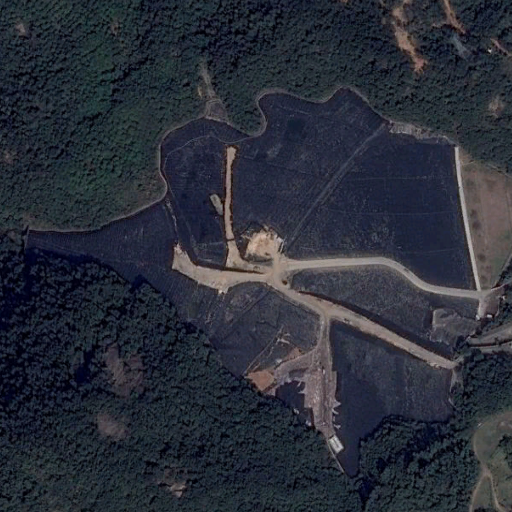lf: (22, 87, 469, 482)
